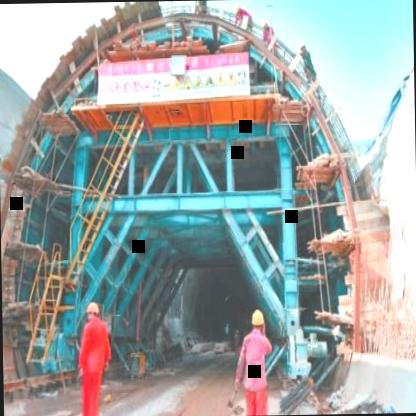helmet: (248, 305, 266, 338), (85, 296, 99, 321)
